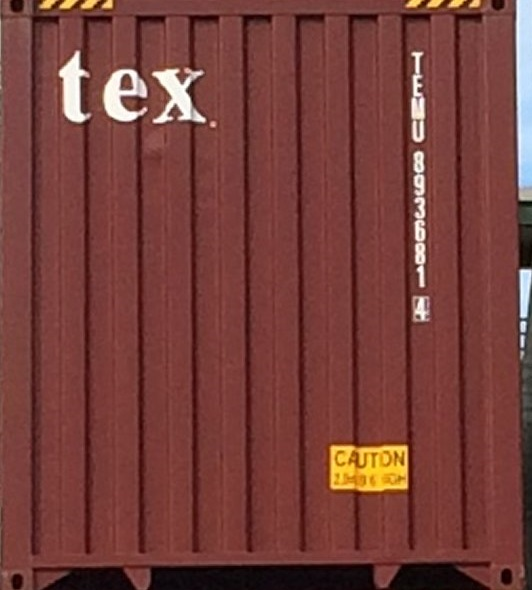container_no_door: (1, 3, 514, 590)
